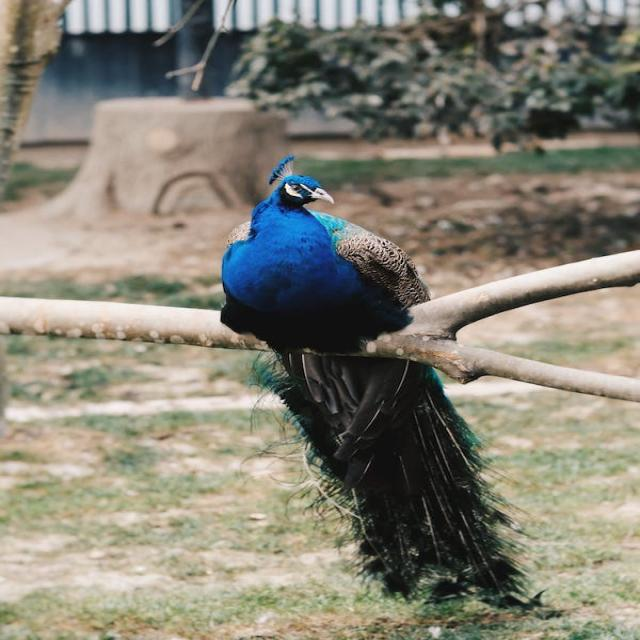peacock: (85, 130, 616, 640)
